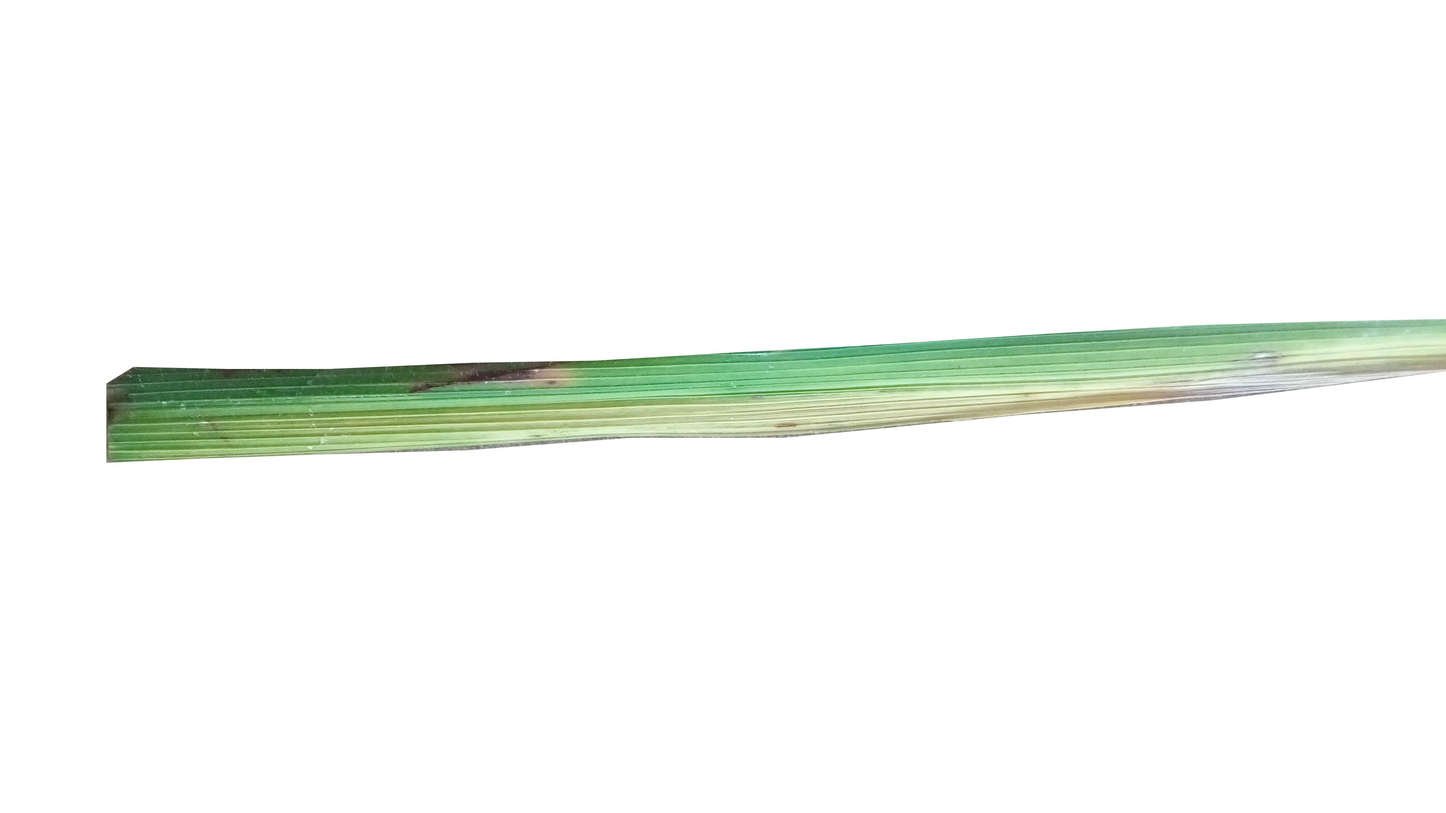Rice blast: (396, 363, 591, 396)
